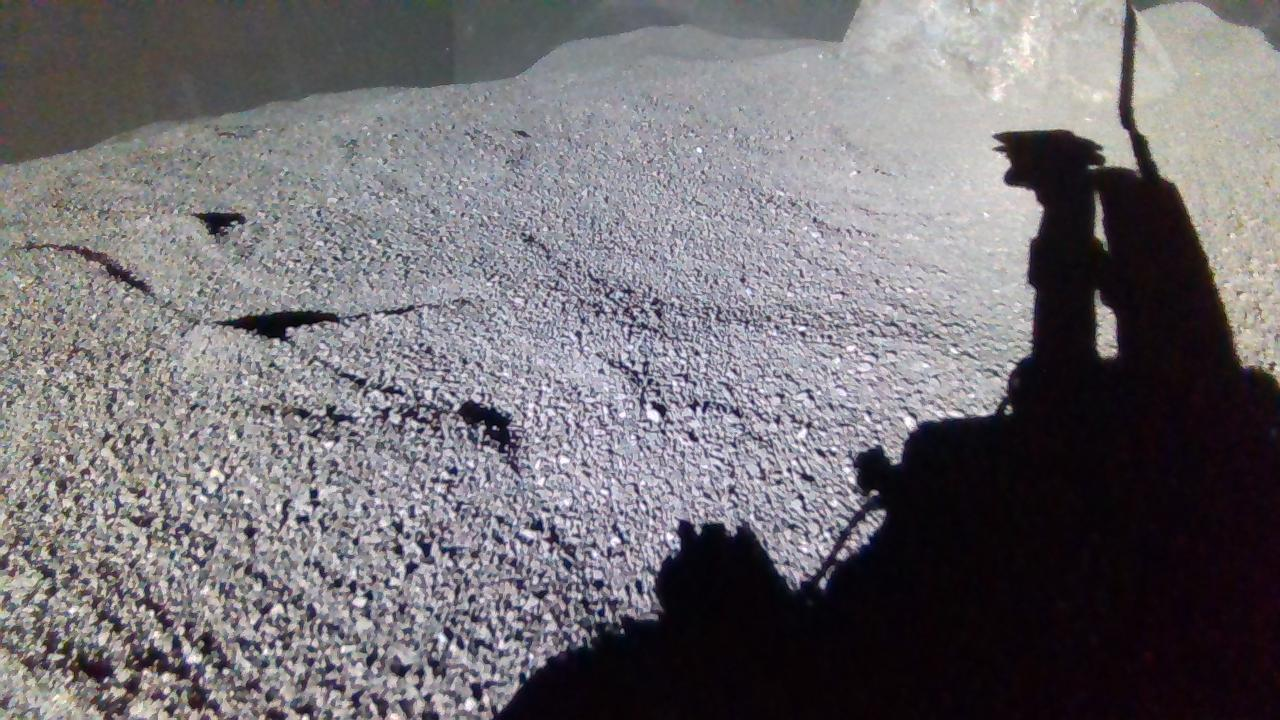rock: (841, 3, 1175, 105)
